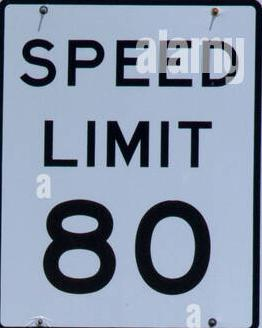Speed Limit -80-: (0, 1, 261, 327)
